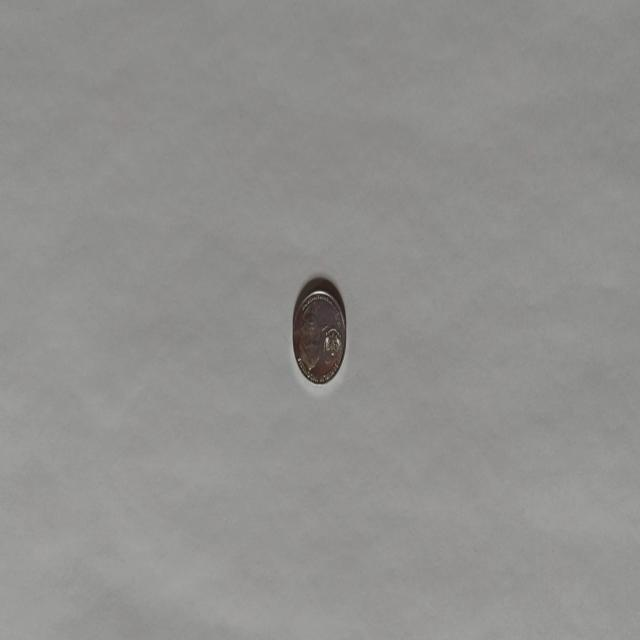dua ratus rupiah: (291, 276, 347, 386)
